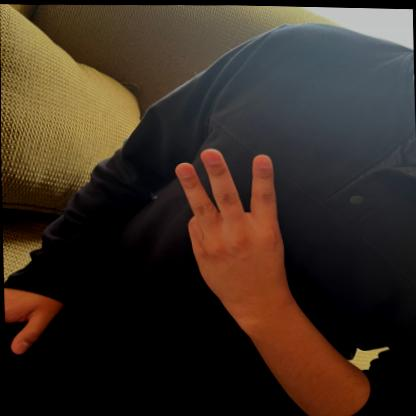W: (171, 136, 291, 307)
